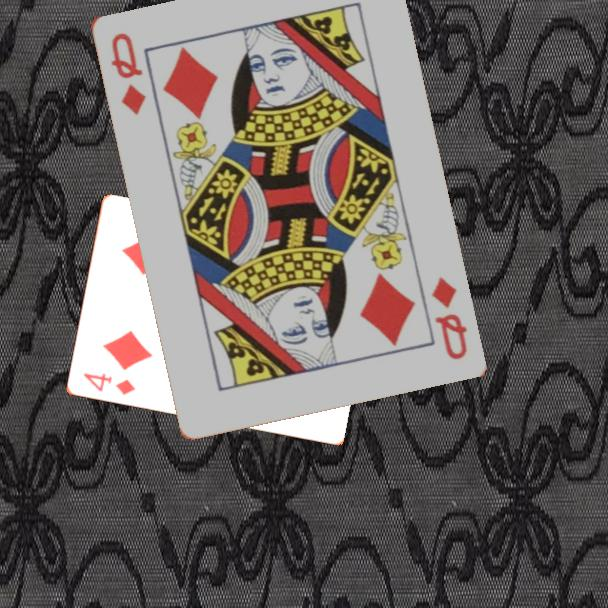d04: (80, 370, 138, 398)
d12: (427, 273, 470, 363), (107, 29, 148, 118)
